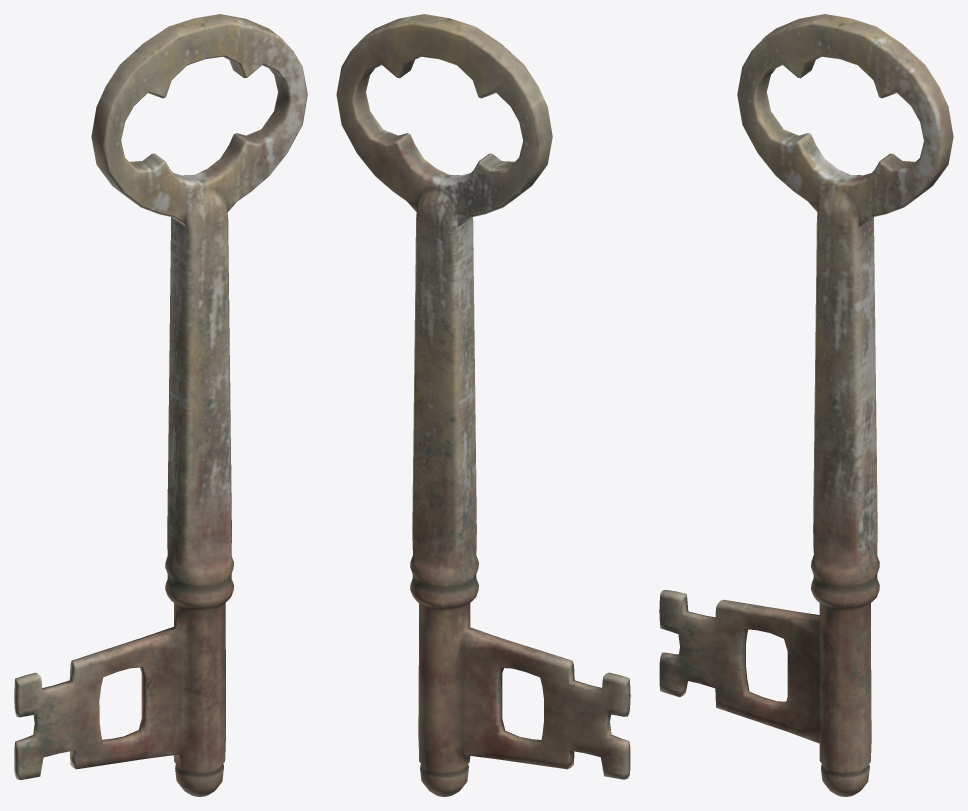
File: key_10_rusty_small.glb
3 renders of one model, left to right at view 1: azimuth 30°, elevation 25°; view 2: azimuth 150°, elevation 25°; view 3: azimuth 330°, elevation 25°, orthographic.
Visible parts, largest first — view 1: Key; view 2: Key; view 3: Key.
Part boxes in pixels (x1,y1,x2,y2): Key: (14, 14, 307, 796); Key: (336, 14, 630, 796); Key: (659, 14, 953, 796).
Bounding box in the file's own units: 0.0583 × 0.15 × 0.0121.
1 material, 1 textured.
